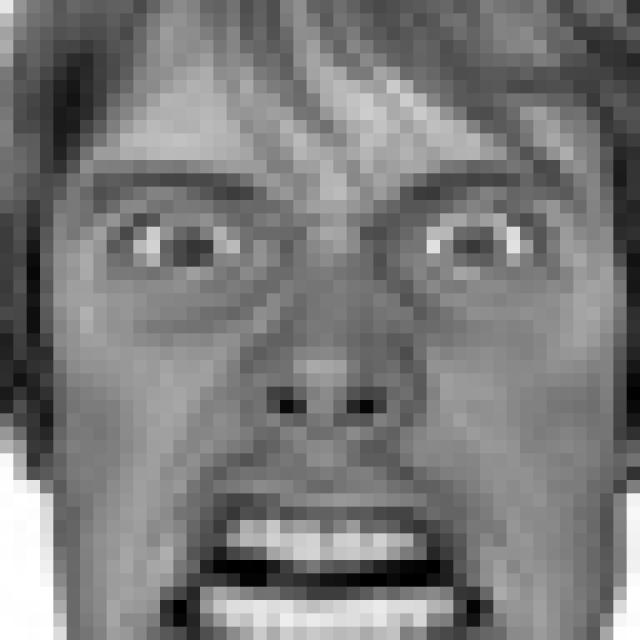angry: (75, 157, 566, 640)
